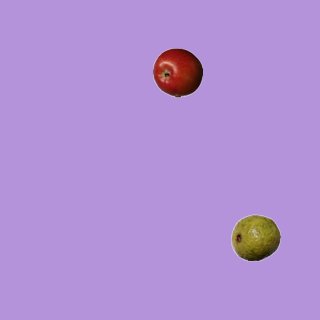Apple Braeburn: (152, 47, 202, 97)
Guava: (230, 212, 280, 262)
